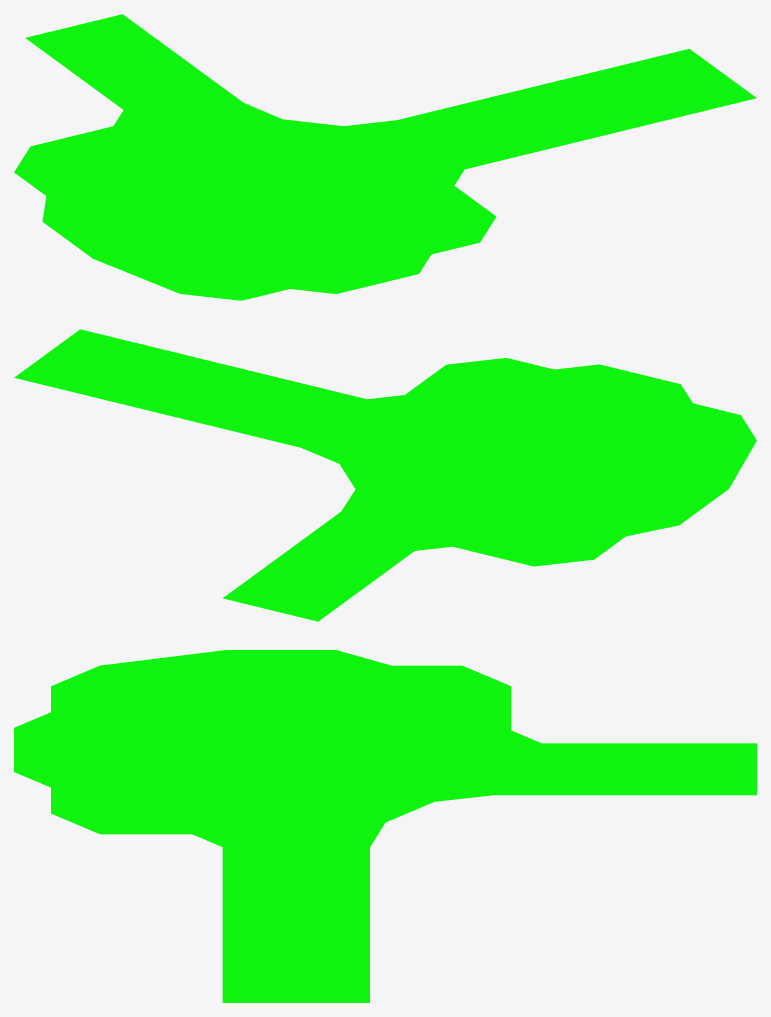
Rendered from s06a_lb1-floor.glb.
3 renders of one model, top to bottom at view 1: azimuth 30°, elevation 25°; view 2: azimuth 150°, elevation 25°; view 3: azimuth 270°, elevation 25°, orthographic. The views are drawn at different scales.
Visible parts, largest first — view 1: collision_floor-colonly; view 2: collision_floor-colonly; view 3: collision_floor-colonly.
Boxes of the visible parts, <box> form: collision_floor-colonly: <box>14,14,756,300</box>; collision_floor-colonly: <box>14,329,756,621</box>; collision_floor-colonly: <box>14,650,756,1002</box>.
Bounding box in the file's own units: 68 × 0.1016 × 60.5.
